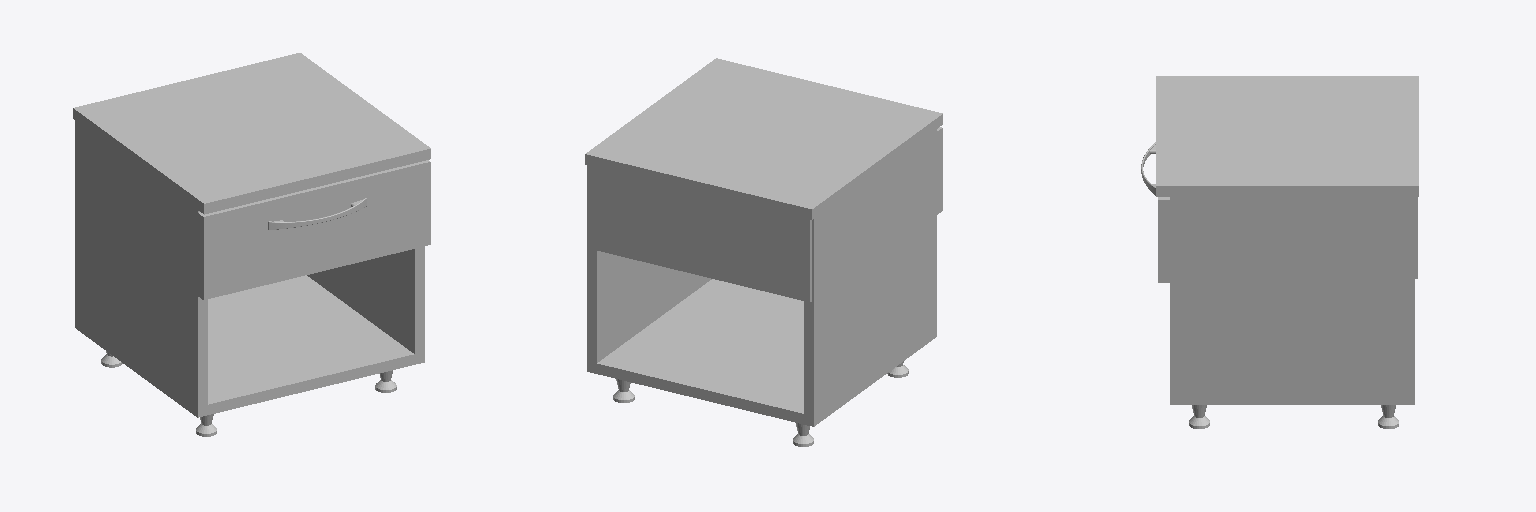
The model's file is nightstand.obj.
3 views of the same model, side by side, from view 1: azimuth 30°, elevation 25°; view 2: azimuth 150°, elevation 25°; view 3: azimuth 270°, elevation 25° (orthographic).
Visible parts, largest first — view 1: Group10_1_001, Group7_1_001, Group9_1_001, Group11_1_001, Group7_1_002, ??????_001; view 2: Group10_1_001, Group7_1_001, Group9_1_001, Group_002, Group7_1_002; view 3: Group7_1_002, Group10_1_001, Group9_1_001, Group11_1_001.
Part boxes in pixels (left/top/right/bottom): Group10_1_001: left=73, top=53, right=430, bottom=214; Group7_1_001: left=75, top=120, right=207, bottom=406; Group9_1_001: left=75, top=275, right=424, bottom=417; Group11_1_001: left=198, top=160, right=430, bottom=299; Group7_1_002: left=307, top=246, right=424, bottom=353; ??????_001: left=268, top=198, right=366, bottom=229; Group10_1_001: left=585, top=58, right=942, bottom=219; Group7_1_001: left=804, top=129, right=936, bottom=415; Group9_1_001: left=587, top=279, right=936, bottom=426; Group_002: left=588, top=166, right=811, bottom=301; Group7_1_002: left=587, top=165, right=711, bottom=362; Group7_1_002: left=1170, top=197, right=1414, bottom=393; Group10_1_001: left=1156, top=76, right=1418, bottom=196; Group9_1_001: left=1170, top=394, right=1414, bottom=404; Group11_1_001: left=1158, top=197, right=1169, bottom=282.
Bounding box in the file's own units: 15.75 × 16.56 × 16.66.